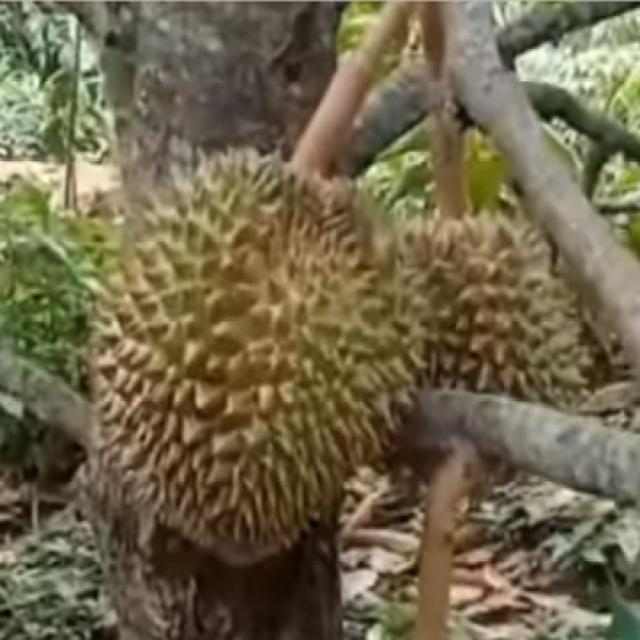mature: (80, 145, 412, 567)
